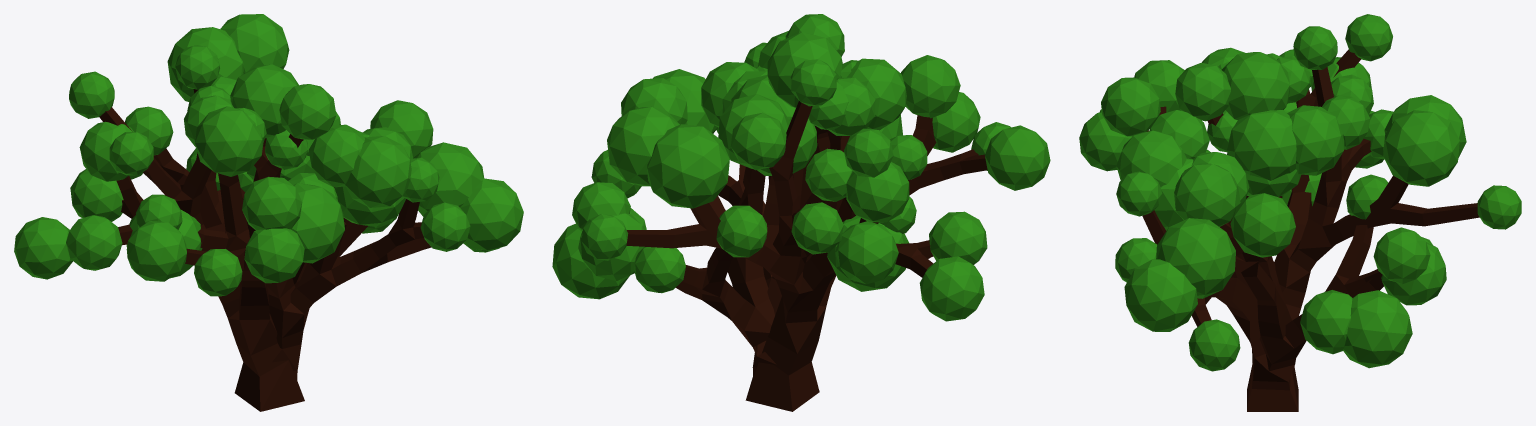
Rendered from Tree00GreenBig-byKW.glb.
3 renders of one model, left to right at view 1: azimuth 30°, elevation 25°; view 2: azimuth 150°, elevation 25°; view 3: azimuth 270°, elevation 25°, orthographic. The views are drawn at different scales.
Visible parts, largest first — view 1: Stem.013, Leaf.024, Leaf.046, Leaf.036, Leaf.026, Leaf.003, Leaf.008, Leaf.048, Leaf.005, Leaf, Leaf.021, Leaf.001 (+21 smaller); view 2: Stem.013, Leaf.020, Leaf.021, Leaf.003, Leaf.008, Leaf.009, Leaf.001, Leaf.010, Leaf.005, Leaf.041, Leaf.018, Leaf.024 (+26 smaller); view 3: Stem.013, Leaf.021, Leaf.048, Leaf.041, Leaf.036, Leaf.043, Leaf.005, Leaf.047, Leaf.031, Leaf.044, Leaf.001, Leaf.046 (+25 smaller).
Boxes of the visible parts, bbox=[...] form: Stem.013: bbox=[99, 89, 431, 411]; Leaf.024: bbox=[195, 106, 263, 176]; Leaf.046: bbox=[344, 136, 411, 207]; Leaf.036: bbox=[460, 178, 523, 250]; Leaf.026: bbox=[291, 183, 344, 263]; Leaf.003: bbox=[126, 221, 186, 281]; Leaf.008: bbox=[14, 217, 72, 279]; Leaf.048: bbox=[414, 142, 483, 216]; Leaf.005: bbox=[230, 64, 298, 138]; Leaf: bbox=[244, 228, 304, 283]; Leaf.021: bbox=[220, 14, 289, 73]; Leaf.001: bbox=[242, 176, 302, 230]; Stem.013: bbox=[626, 101, 987, 411]; Leaf.020: bbox=[646, 124, 729, 208]; Leaf.021: bbox=[607, 106, 679, 186]; Leaf.003: bbox=[985, 125, 1050, 190]; Leaf.008: bbox=[919, 256, 984, 321]; Leaf.009: bbox=[835, 221, 898, 284]; Leaf.001: bbox=[901, 55, 960, 118]; Leaf.010: bbox=[846, 162, 909, 222]; Leaf.005: bbox=[767, 32, 842, 107]; Leaf.041: bbox=[552, 223, 629, 299]; Leaf.018: bbox=[730, 112, 786, 170]; Leaf.024: bbox=[847, 58, 906, 130]; Stem.013: bbox=[1142, 49, 1479, 411]; Leaf.021: bbox=[1383, 110, 1459, 186]; Leaf.048: bbox=[1156, 218, 1235, 298]; Leaf.041: bbox=[1343, 290, 1412, 368]; Leaf.036: bbox=[1124, 259, 1197, 331]; Leaf.043: bbox=[1227, 109, 1296, 180]; Leaf.005: bbox=[1221, 52, 1289, 120]; Leaf.047: bbox=[1230, 193, 1295, 257]; Leaf.031: bbox=[1174, 163, 1240, 226]; Leaf.044: bbox=[1287, 105, 1344, 175]; Leaf.001: bbox=[1101, 77, 1160, 136]; Leaf.046: bbox=[1116, 130, 1186, 186].
Bounding box in the file's own units: 29.49 × 22.85 × 26.31.
